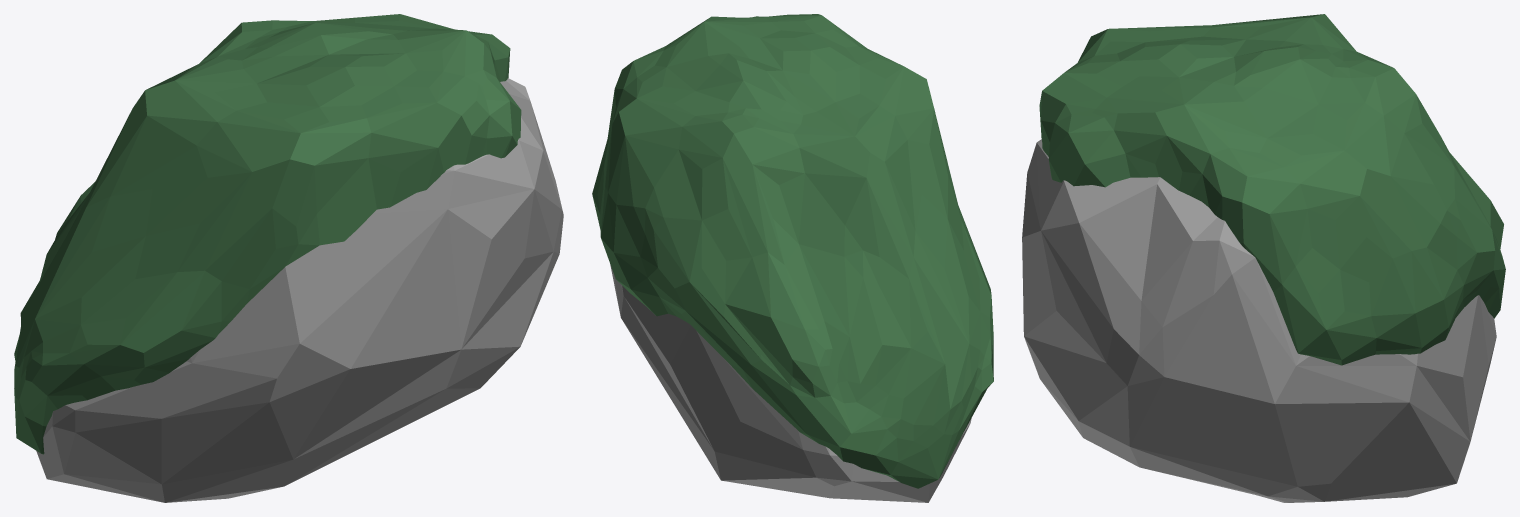
File: Rock_015.glb
3 renders of one model, left to right at view 1: azimuth 30°, elevation 25°; view 2: azimuth 150°, elevation 25°; view 3: azimuth 270°, elevation 25°, orthographic. The views are drawn at different scales.
Visible parts, largest first — view 1: Rock_015; view 2: Rock_015; view 3: Rock_015.
Boxes of the visible parts, x1,y1,x2,y2 form: Rock_015: [14, 14, 563, 502]; Rock_015: [592, 14, 993, 502]; Rock_015: [1022, 14, 1505, 502].
Size of the model in its own units: 1.79 by 1.67 by 1.45.
1 material, 1 textured.
